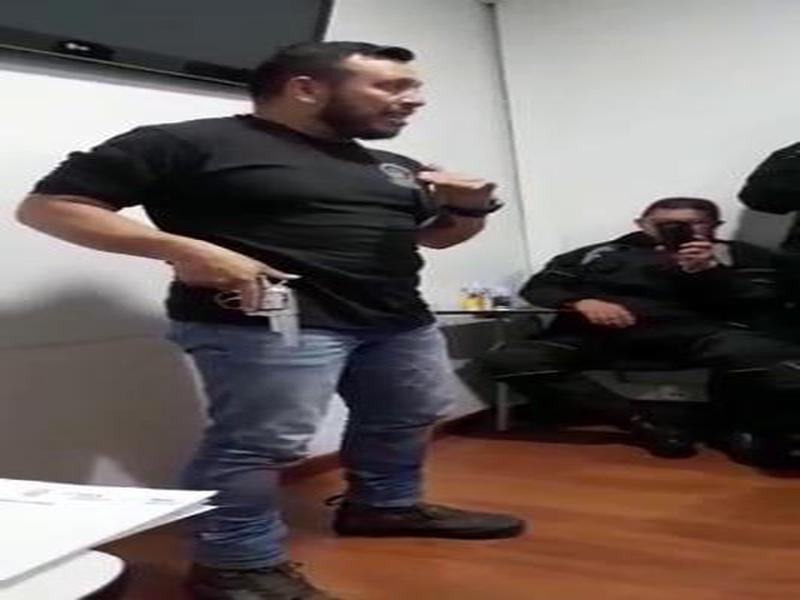Revolver: (196, 242, 317, 374)
